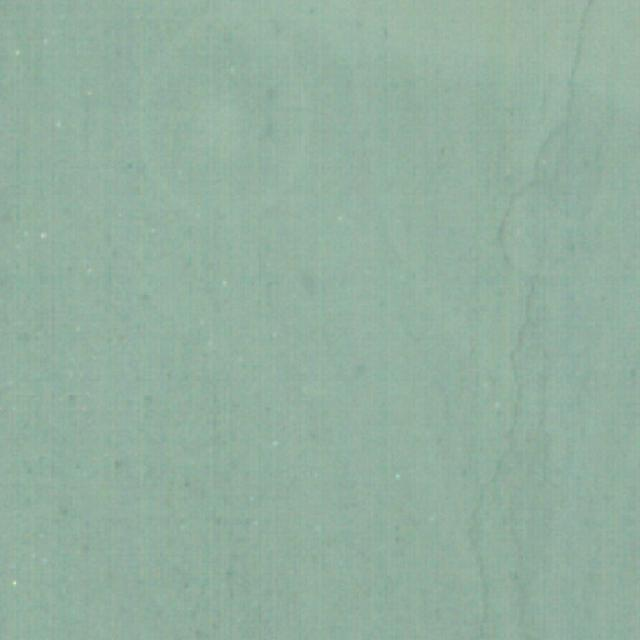Diagonal: (436, 5, 589, 640)
